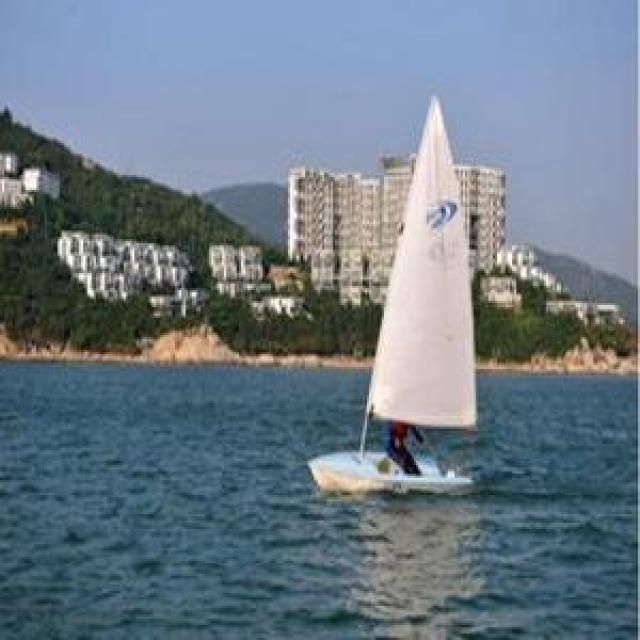sailboat: (300, 91, 488, 498)
